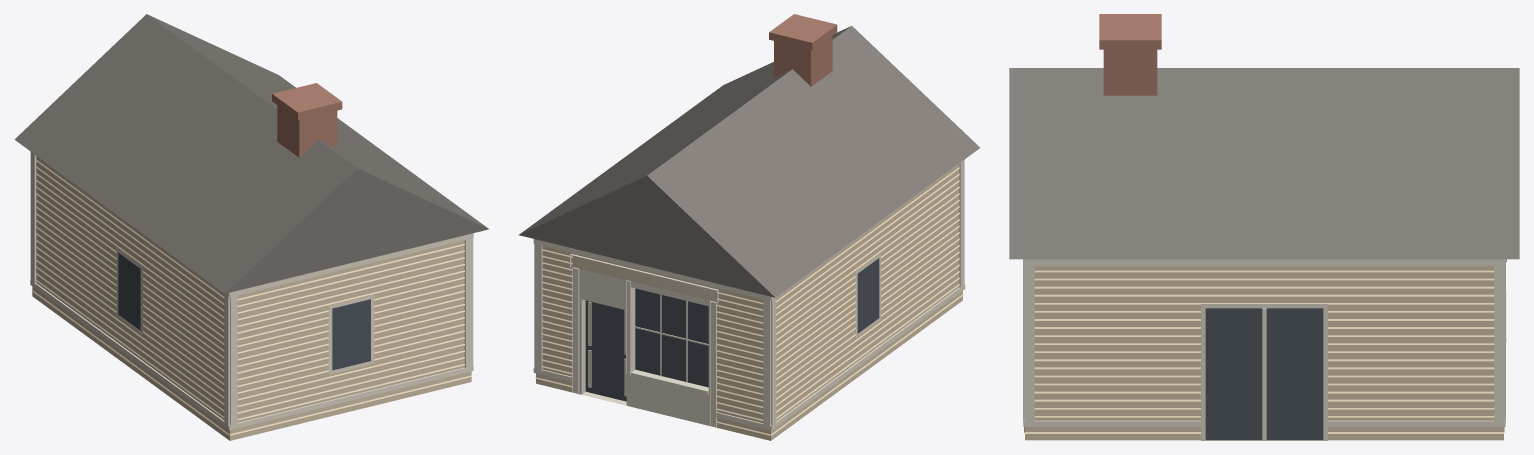
The model's file is recon_1835_south_c1_018__inferred_1835.glb.
3 views of the same model, side by side, from view 1: azimuth 30°, elevation 25°; view 2: azimuth 150°, elevation 25°; view 3: azimuth 270°, elevation 25° (orthographic). The views are drawn at different scales.
Visible parts, largest first — view 1: recon_1835_south_c1_018__inferred_1835; view 2: recon_1835_south_c1_018__inferred_1835; view 3: recon_1835_south_c1_018__inferred_1835.
Boxes of the visible parts, x1,y1,x2,y2 form: recon_1835_south_c1_018__inferred_1835: [14, 14, 488, 440]; recon_1835_south_c1_018__inferred_1835: [519, 14, 980, 440]; recon_1835_south_c1_018__inferred_1835: [1009, 14, 1519, 440].
Size of the model in its own units: 5.81 by 5.92 by 8.02.
